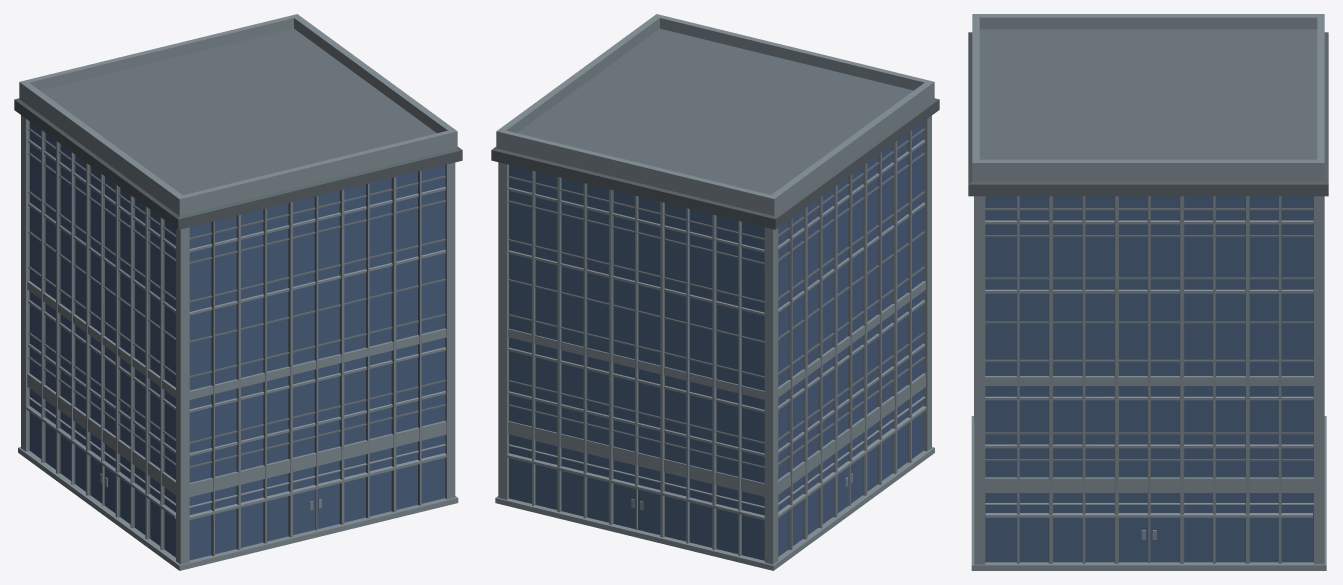
Rendered from SM_Gen_Bld_Background_07.obj.
The picture shows the model from 3 angles, left to right: view 1: azimuth 30°, elevation 25°; view 2: azimuth 150°, elevation 25°; view 3: azimuth 270°, elevation 25°; orthographic projection. The views are drawn at different scales.
Visible parts, largest first — view 1: SM_Gen_Bld_Background_07_0, SM_Gen_Bld_Background_07_1; view 2: SM_Gen_Bld_Background_07_0, SM_Gen_Bld_Background_07_1; view 3: SM_Gen_Bld_Background_07_0, SM_Gen_Bld_Background_07_1.
Part boxes in pixels (box(x1,y1,x2,y2)): SM_Gen_Bld_Background_07_0: box(14, 14, 462, 570); SM_Gen_Bld_Background_07_1: box(29, 121, 444, 560); SM_Gen_Bld_Background_07_0: box(491, 14, 939, 570); SM_Gen_Bld_Background_07_1: box(509, 122, 923, 560); SM_Gen_Bld_Background_07_0: box(968, 14, 1328, 570); SM_Gen_Bld_Background_07_1: box(985, 196, 1313, 562).
Size of the model in its own units: 13.84 by 17.26 by 13.82.
2 materials, 1 textured.
